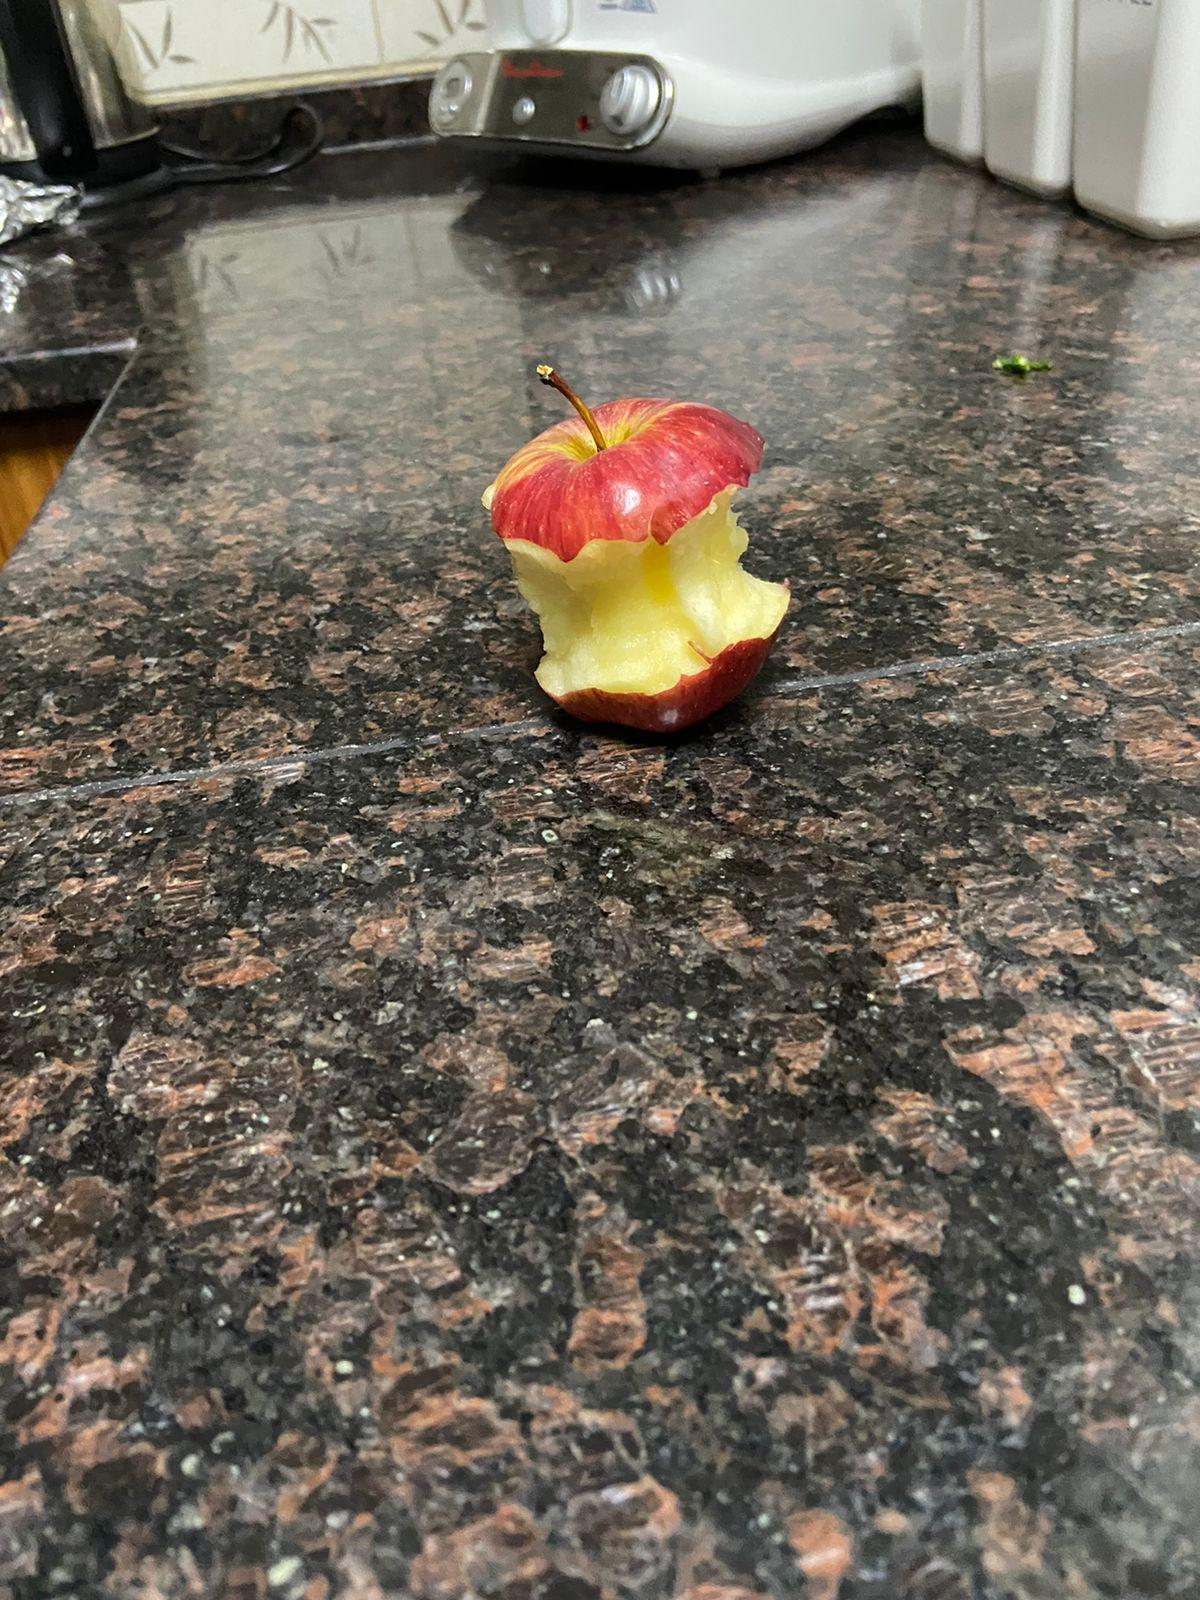Apple: (468, 357, 800, 733)
